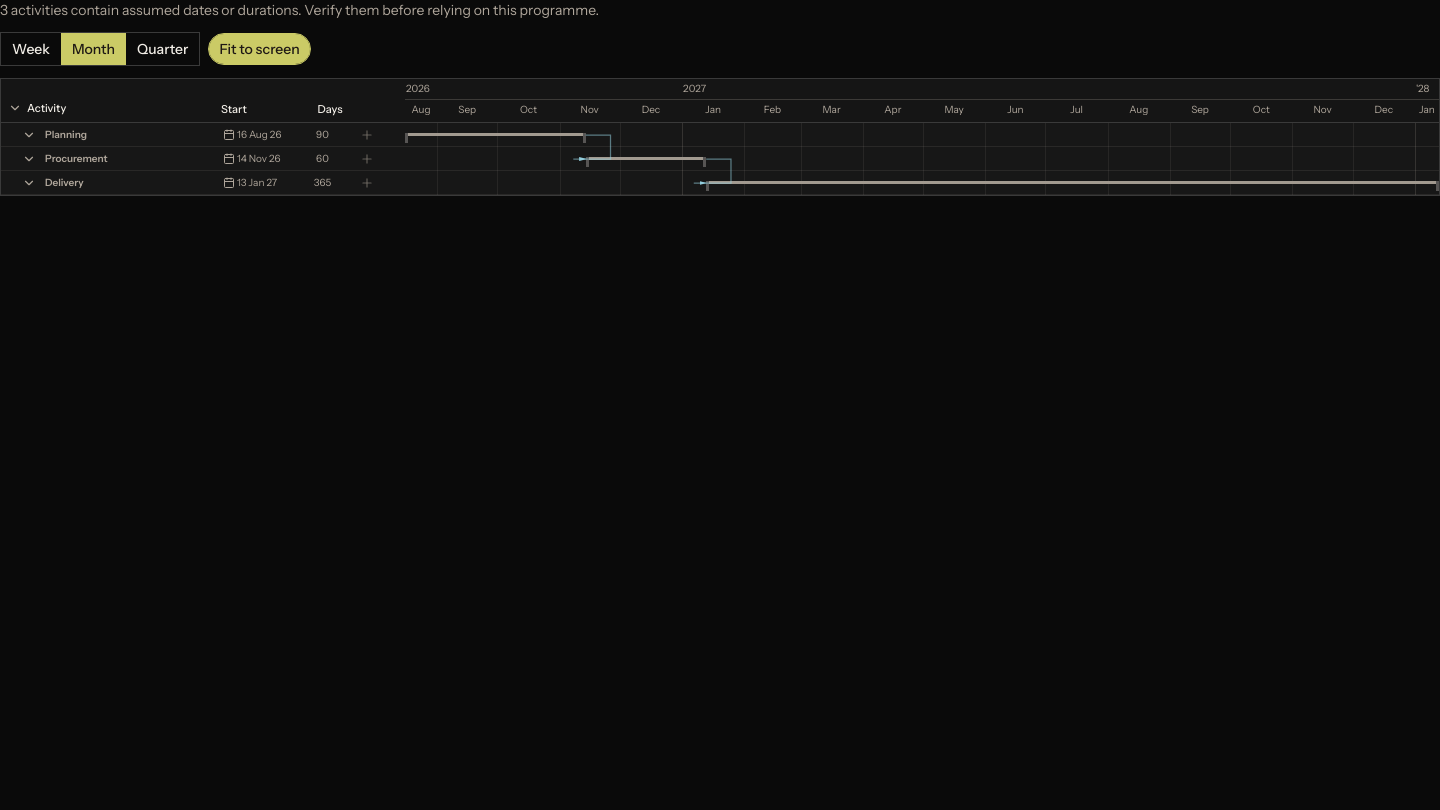
Test case: ProgramGantt › opens a SiteWise date popover from the start field
Click the button with aria-label "Planning start date" at (263, 135), box top-left (221, 125), bottom-right (305, 145)
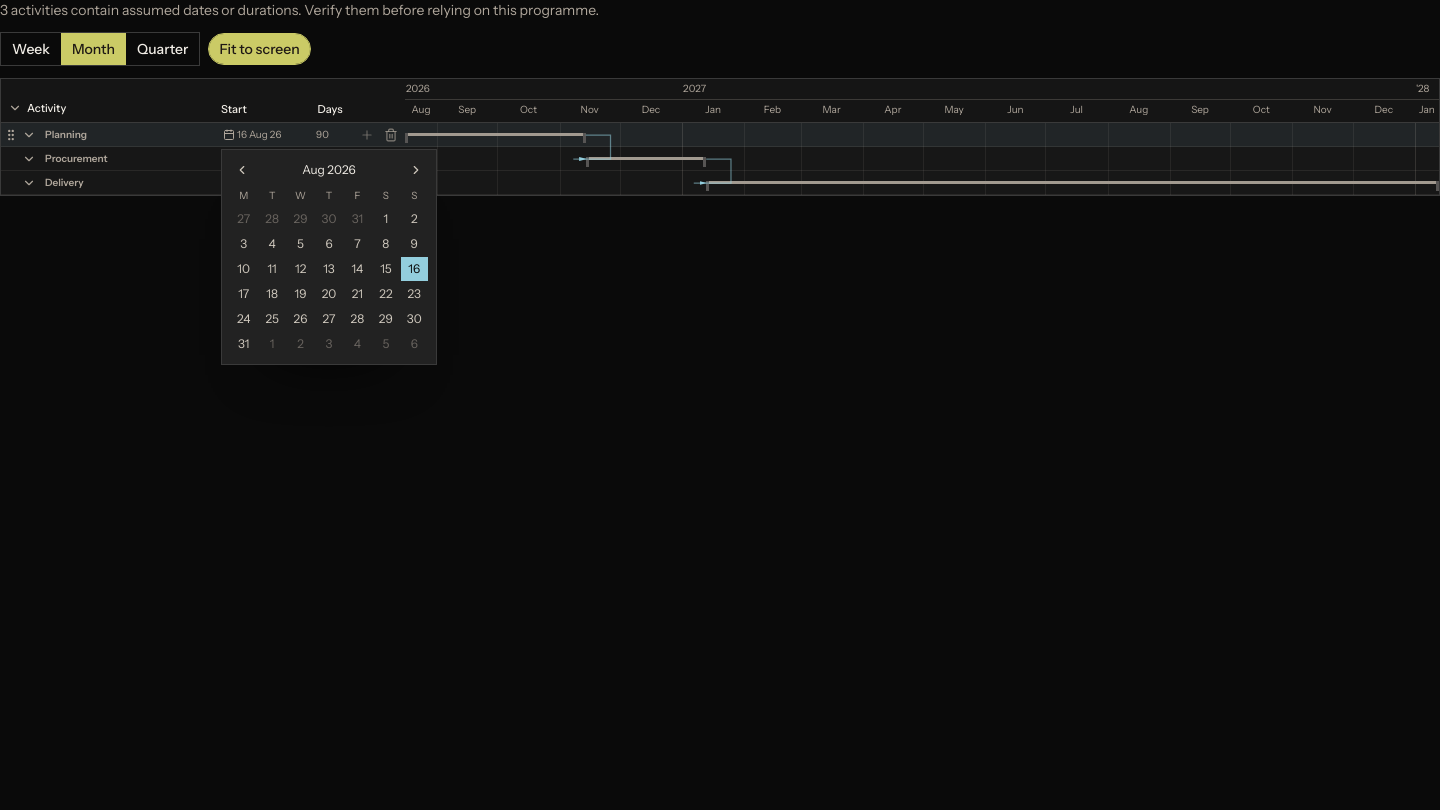
Now the dialog named "Choose date" is shown, box top-left (221, 149), bottom-right (437, 365)
